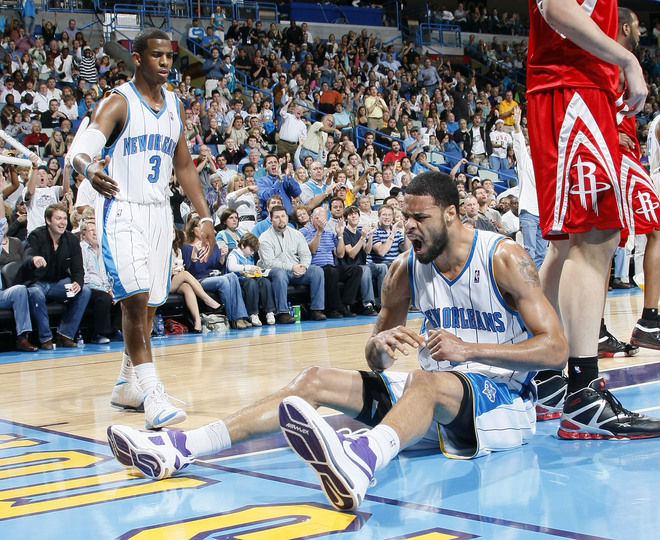10+: (2, 1, 660, 452)
down: (102, 168, 575, 516)
